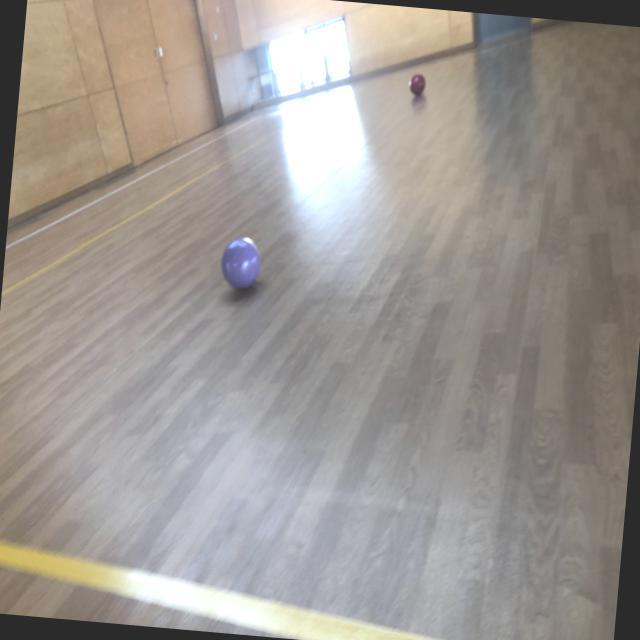purple_ball: (220, 238, 264, 292)
red_ball: (408, 71, 426, 94)
